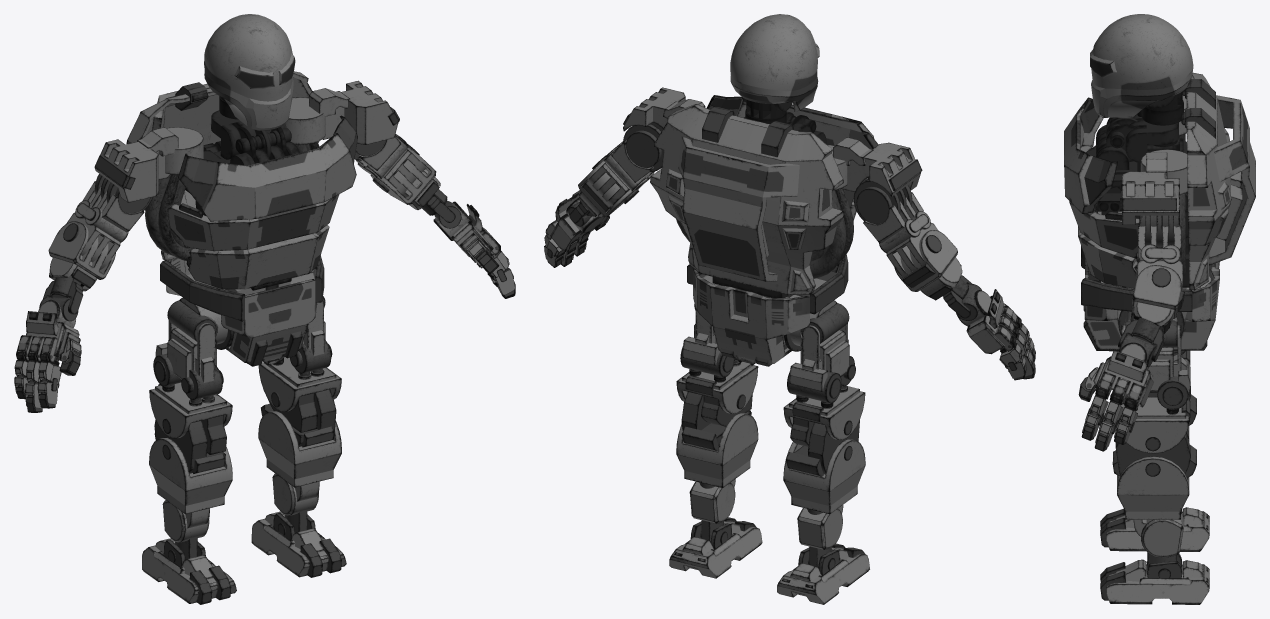
3 views of the same model, side by side, from view 1: azimuth 30°, elevation 25°; view 2: azimuth 150°, elevation 25°; view 3: azimuth 270°, elevation 25° (orthographic).
Visible parts, largest first — view 1: BASE_body_1, head_Ind_1, RH2texBBuvR_1, leg_rotate3_2, leg_rotate3, LH2texBBuvR_1, leg_rotate2_2, legEnd_rotate, legEnd_rotate_2, legHeight1, midH_2, legHeight1_2 (+13 smaller); view 2: BASE_body_1, head_Ind_1, leg_rotate3_2, RH2texBBuvR_1, leg_rotate3, leg_rotate2_2, midH_2, legEnd_rotate_2, legEnd_rotate, midH, legHeight1, legHeight1_2 (+10 smaller); view 3: BASE_body_1, head_Ind_1, leg_rotate3, LH2texBBuvR_1, legEnd_rotate, kmr_oneTex, legHeight1, legEnd_rotate_2, leg_rotate2, midH, midL, legHeight2 (+7 smaller).
Boxes of the visible parts, <box> form: BASE_body_1: <box>126,71,357,366</box>; head_Ind_1: <box>185,14,299,290</box>; RH2texBBuvR_1: <box>94,127,203,260</box>; leg_rotate3_2: <box>149,419,232,513</box>; leg_rotate3: <box>258,389,341,487</box>; LH2texBBuvR_1: <box>285,80,399,152</box>; leg_rotate2_2: <box>153,300,223,399</box>; legEnd_rotate: <box>251,511,346,577</box>; legEnd_rotate_2: <box>142,538,236,604</box>; legHeight1: <box>258,357,341,432</box>; midH_2: <box>66,174,152,270</box>; legHeight1_2: <box>149,382,232,454</box>; BASE_body_1: <box>650,95,878,366</box>; head_Ind_1: <box>712,14,826,297</box>; leg_rotate3_2: <box>783,420,865,514</box>; RH2texBBuvR_1: <box>810,137,922,278</box>; leg_rotate3: <box>676,392,758,487</box>; leg_rotate2_2: <box>787,303,855,403</box>; midH_2: <box>853,178,938,277</box>; legEnd_rotate_2: <box>777,543,869,604</box>; legEnd_rotate: <box>669,517,762,578</box>; midH: <box>587,122,663,207</box>; legHeight1: <box>676,359,758,426</box>; legHeight1_2: <box>783,385,865,446</box>; BASE_body_1: <box>1064,72,1255,351</box>; head_Ind_1: <box>1086,14,1200,287</box>; leg_rotate3: <box>1112,433,1196,519</box>; LH2texBBuvR_1: <box>1120,149,1187,276</box>; legEnd_rotate: <box>1100,553,1209,604</box>; kmr_oneTex: <box>1093,342,1153,410</box>; legHeight1: <box>1120,397,1190,453</box>; legEnd_rotate_2: <box>1100,507,1209,551</box>; leg_rotate2: <box>1121,321,1190,409</box>; midH: <box>1136,215,1183,290</box>; midL: <box>1131,265,1184,318</box>; legHeight2: <box>1133,513,1183,568</box>.
Size of the model in its own units: 10.38 by 11.29 by 3.57.
Materials: 5 (5 with a texture image).
